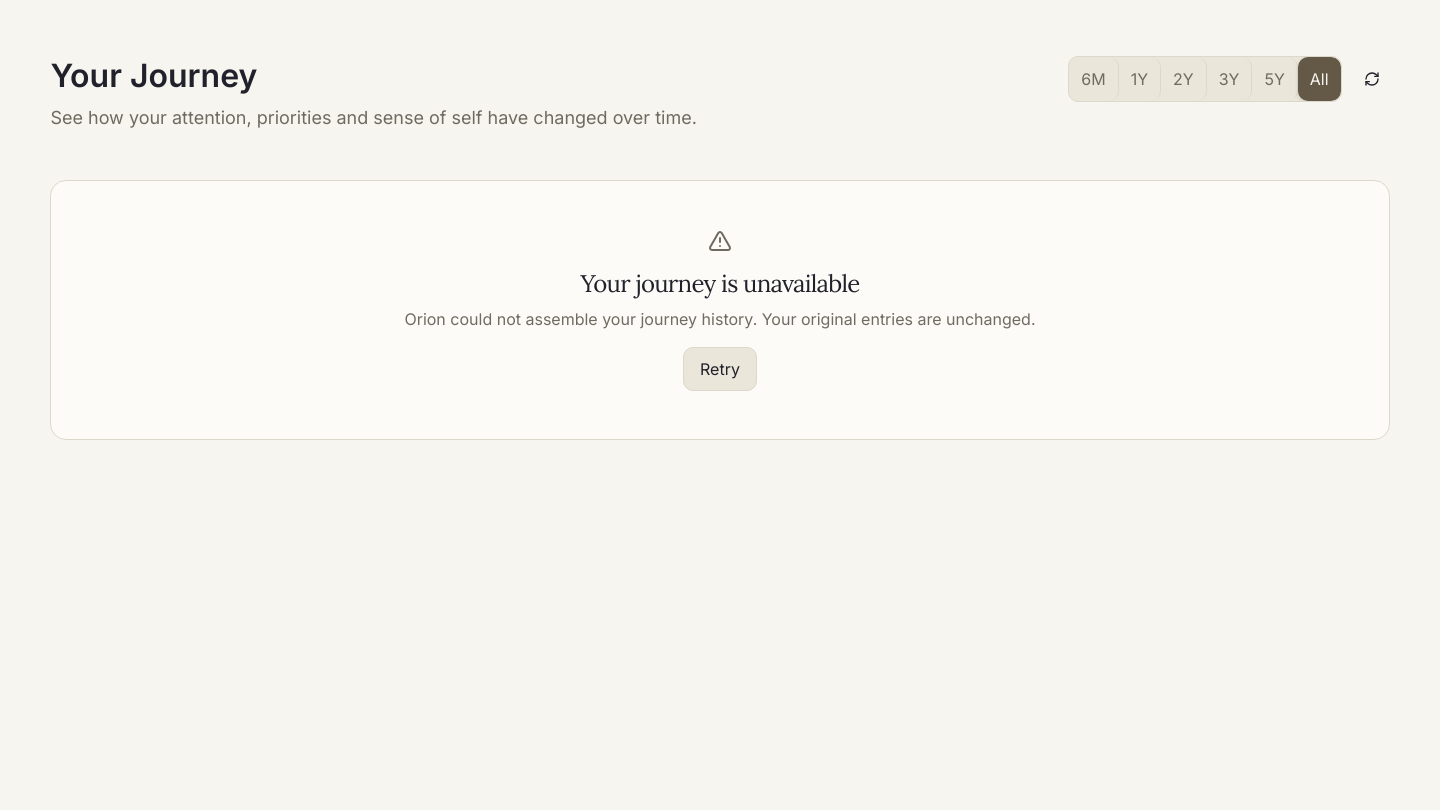
JourneyScreen › retries both requests after a repository error
The width and height of the screenshot is (1440, 810).
Expected: the heading "Your journey is unavailable" is shown, [580, 268, 860, 299]
Click the button "Retry".
click(720, 369)  # box [683, 347, 757, 391]
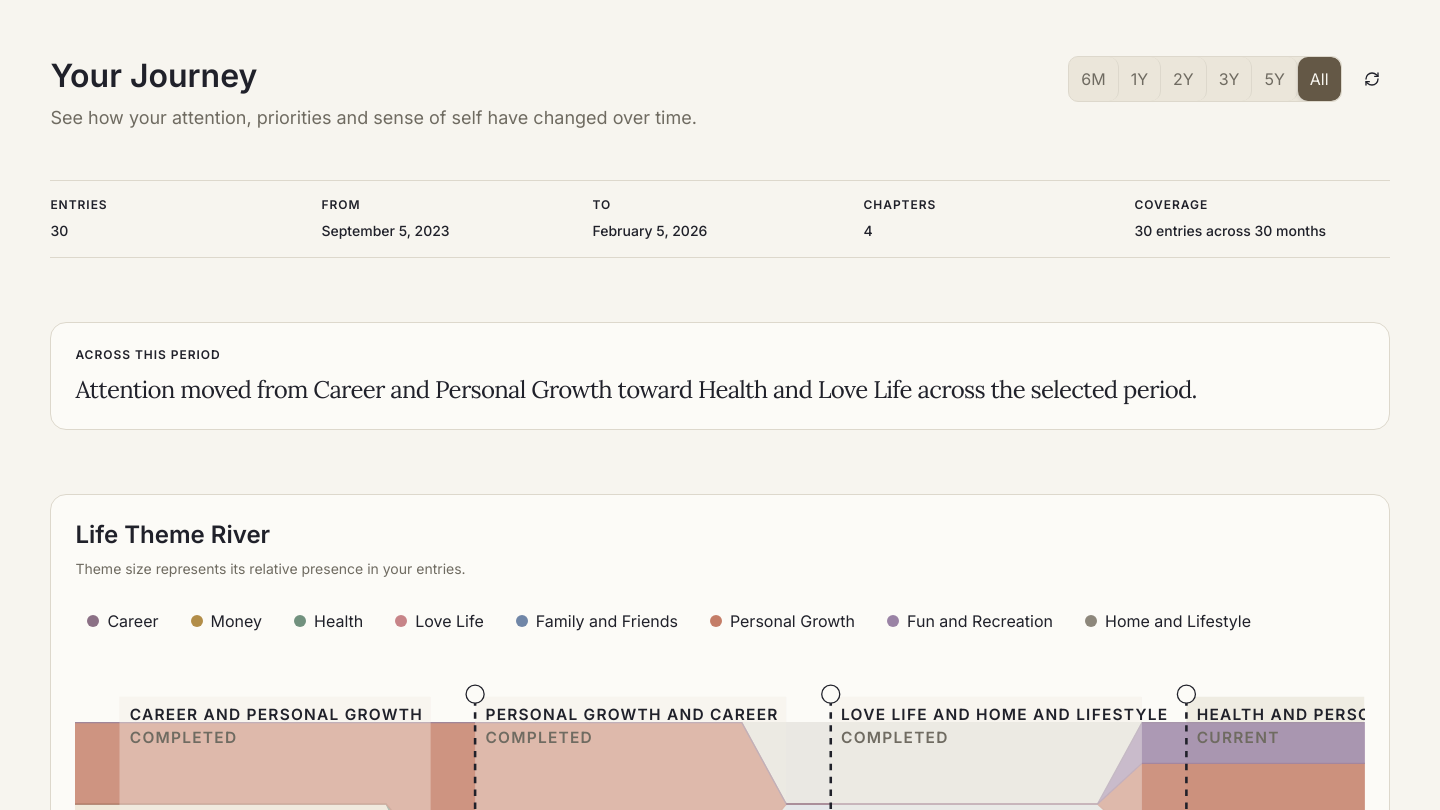
Result: the heading "Life Theme River" is shown at [75, 520, 270, 549]
